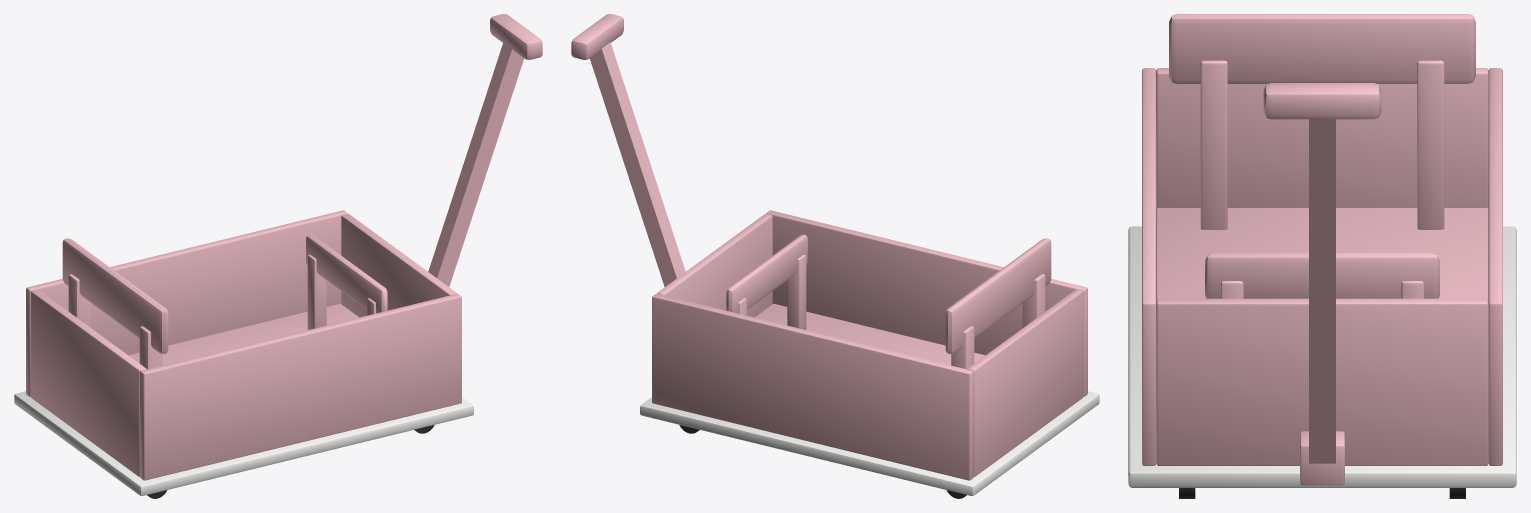
The model's file is wagon.glb.
3 views of the same model, side by side, from view 1: azimuth 30°, elevation 25°; view 2: azimuth 150°, elevation 25°; view 3: azimuth 270°, elevation 25° (orthographic). The views are drawn at different scales.
Visible parts, largest first — view 1: Personalized wagon; view 2: Personalized wagon; view 3: Personalized wagon.
Boxes of the visible parts, x1,y1,x2,y2 form: Personalized wagon: (14, 14, 542, 498); Personalized wagon: (571, 14, 1099, 498); Personalized wagon: (1128, 14, 1516, 498).
Bounding box in the file's own units: 0.8725 × 0.6275 × 0.43.
